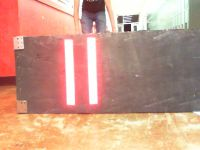switch: (85, 36, 99, 105), (63, 38, 77, 106)
